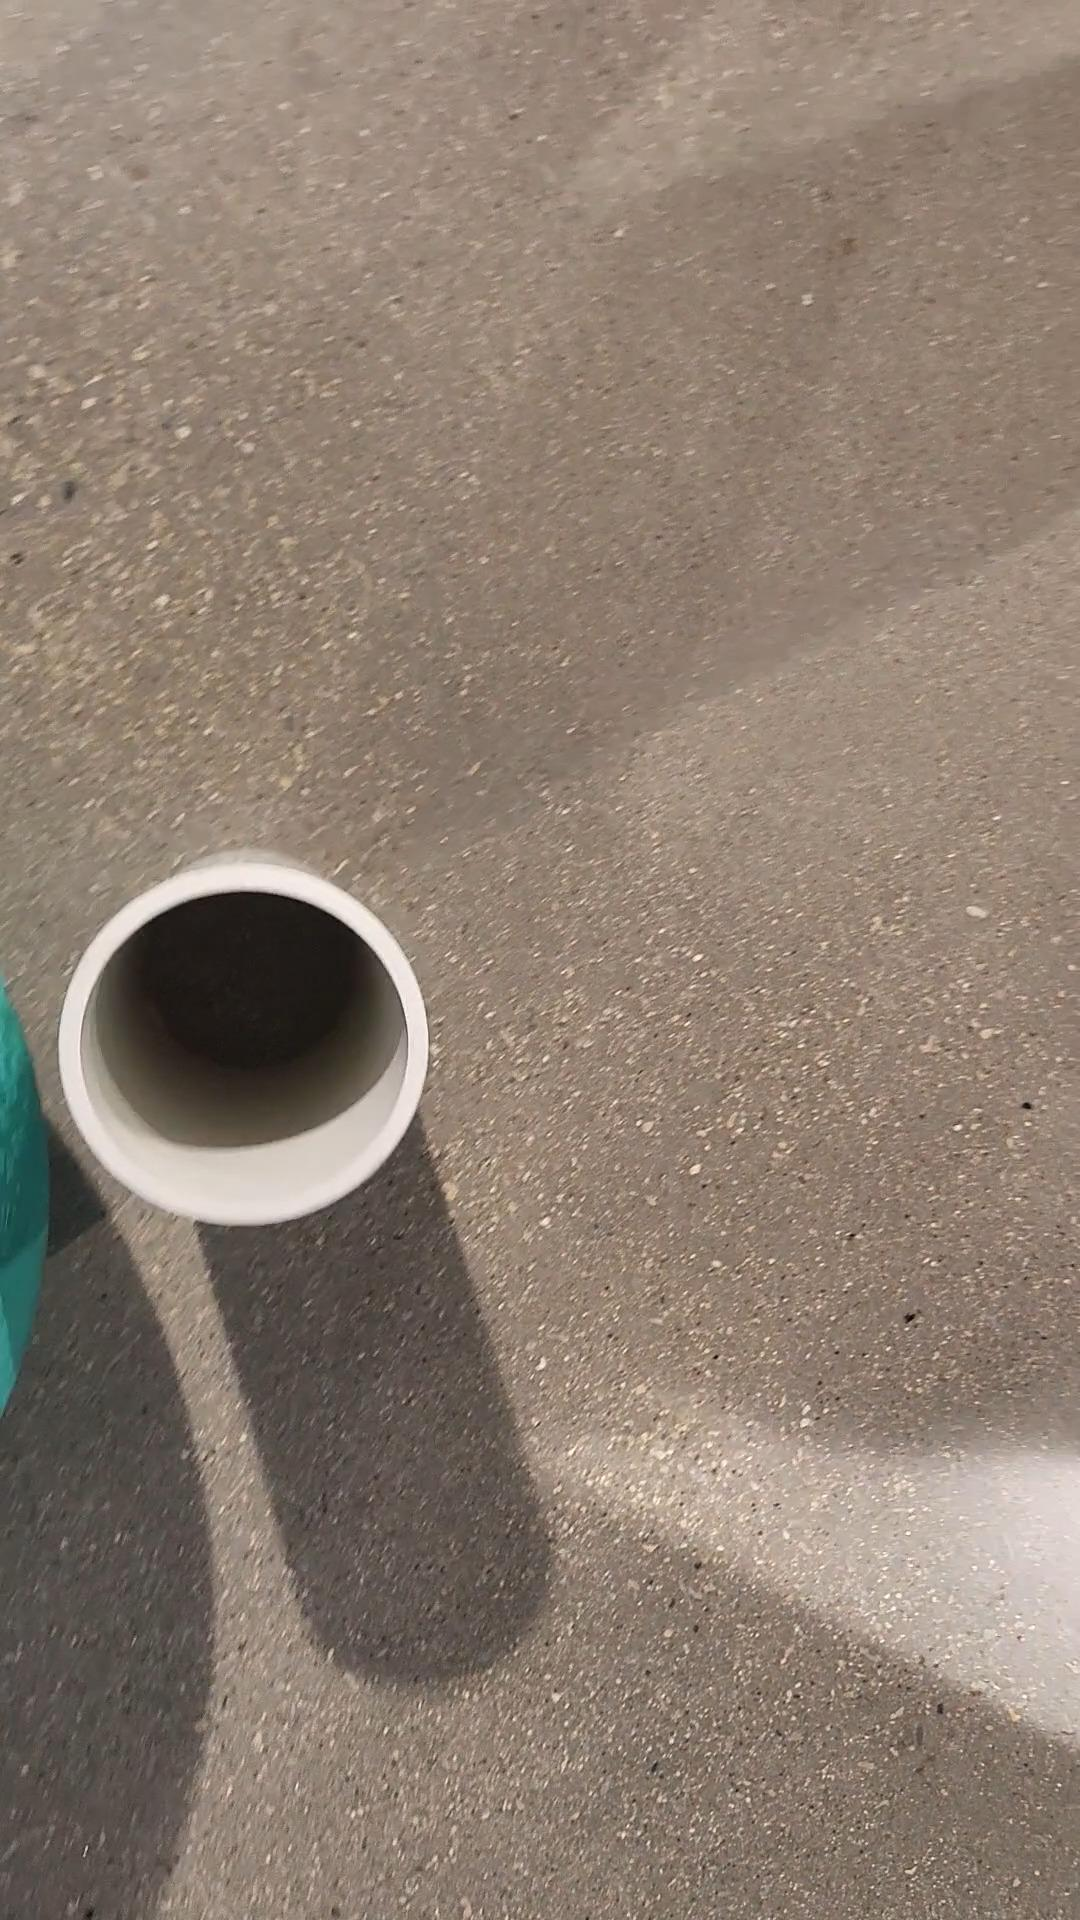algae: (0, 963, 61, 1451)
coral: (62, 857, 433, 1225)
